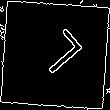L_SW: (26, 27, 84, 83)
